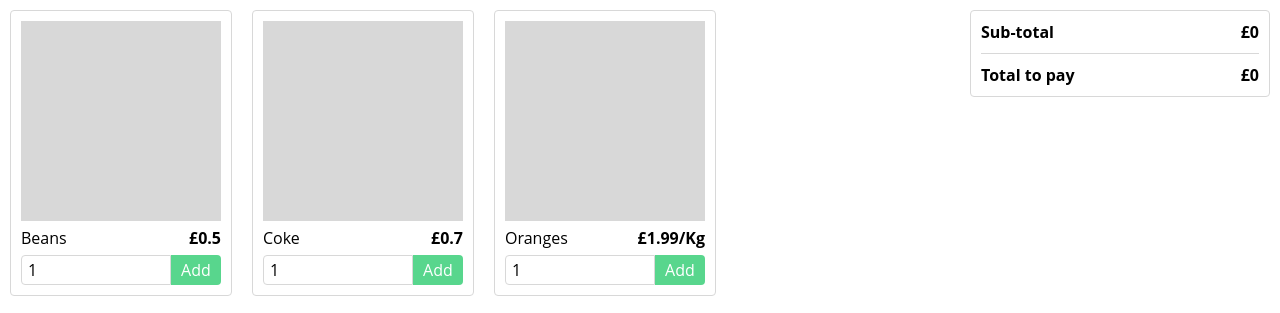
Scenario: End to end test › Should add a 3 different products
The width and height of the screenshot is (1280, 313).
Click the button with test id "add-product" below "Beans": (196, 270) top-left (171, 255), bottom-right (221, 285)
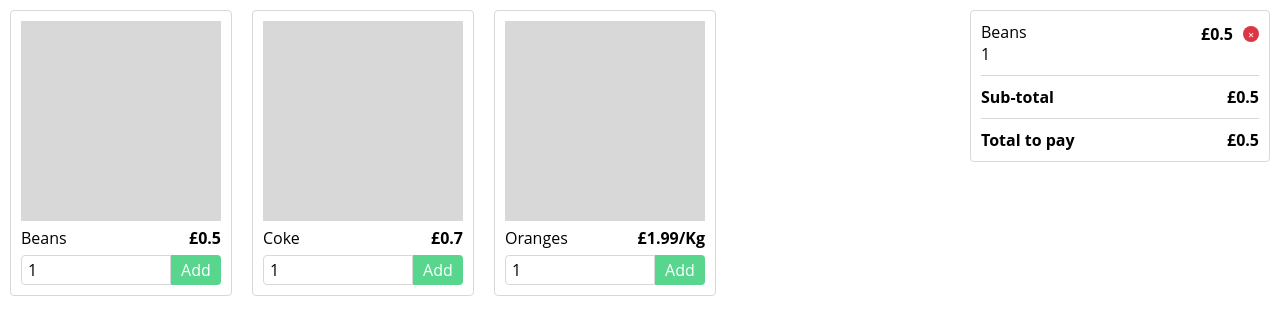
Click the button with test id "add-product" below "Coke": (438, 270) top-left (413, 255), bottom-right (463, 285)
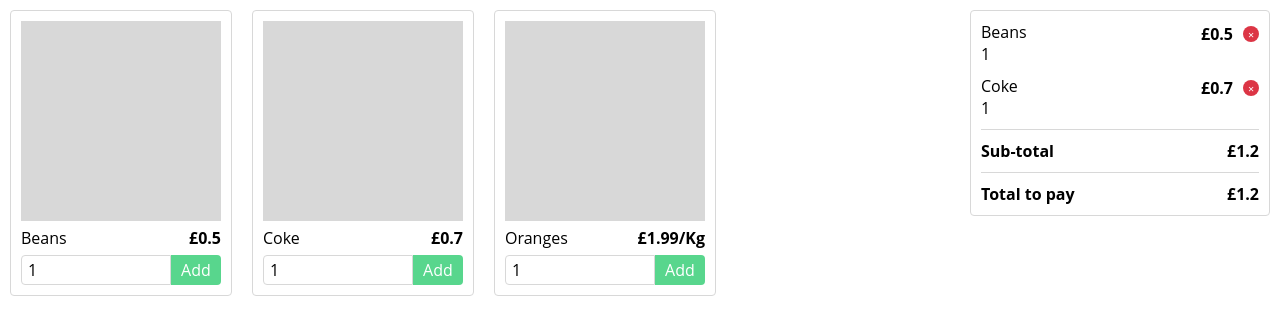
Click the button with test id "add-product" below "Oranges": (680, 270) top-left (655, 255), bottom-right (705, 285)
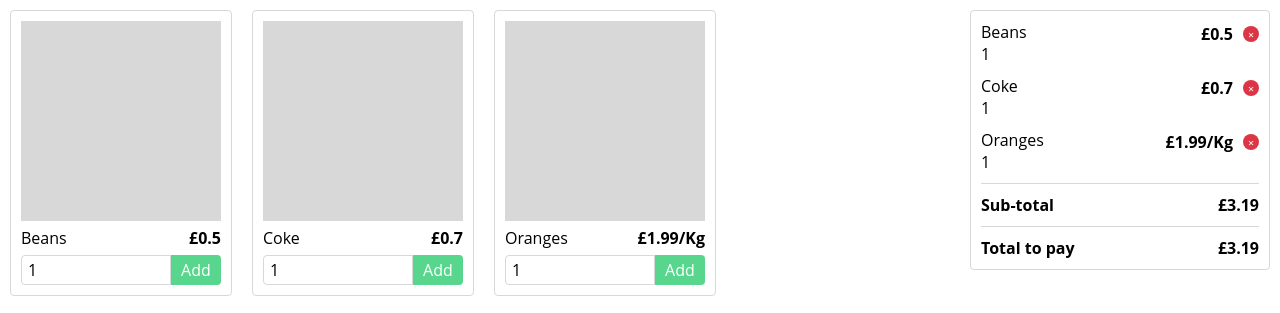
Now the text "£3.19" in the row of "Sub-total" is shown, box top-left (1218, 194), bottom-right (1259, 216)
Now the text "£3.19" next to "Total to pay" is shown, box top-left (1218, 237), bottom-right (1259, 259)
